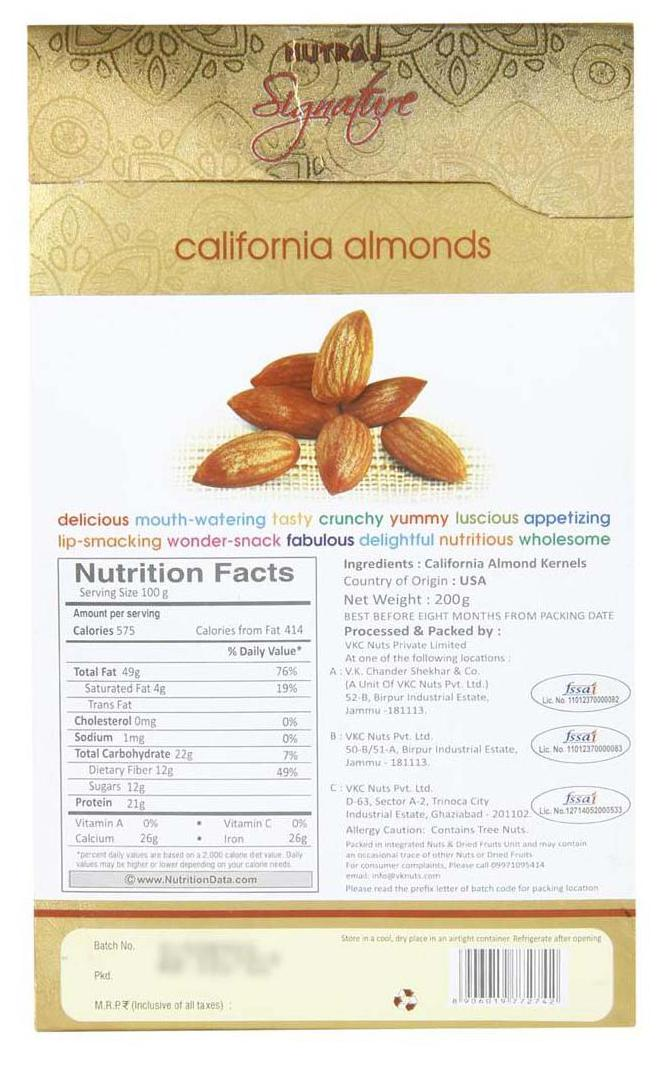fssai: (562, 791, 597, 805), (562, 729, 596, 743), (562, 681, 596, 695)
